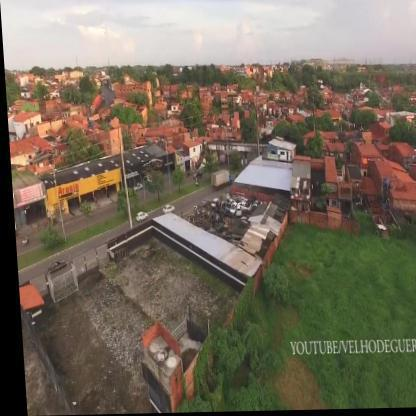lixo: (217, 196, 246, 222), (195, 210, 223, 234)
